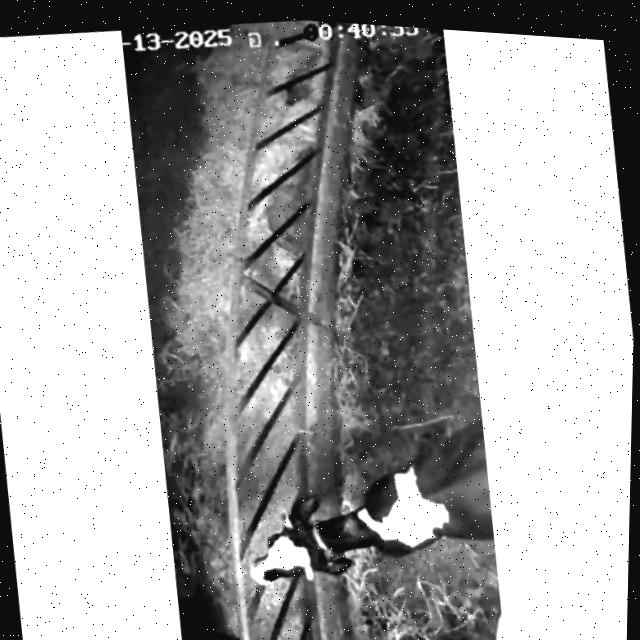eat: (180, 439, 477, 626)
